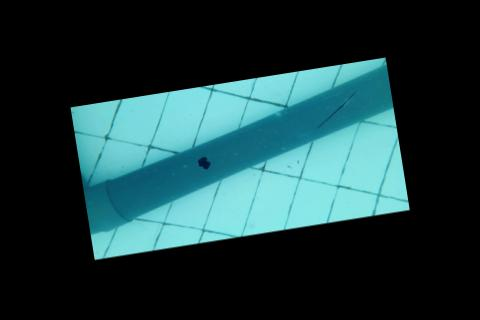kebocoran: (195, 154, 213, 170)
keretakan: (312, 91, 360, 129)
